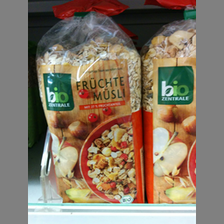cereal: (35, 13, 143, 206), (143, 14, 200, 205)
